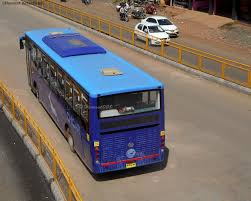Car: (134, 22, 177, 50), (146, 12, 179, 33)
Chigari: (17, 17, 175, 180)
